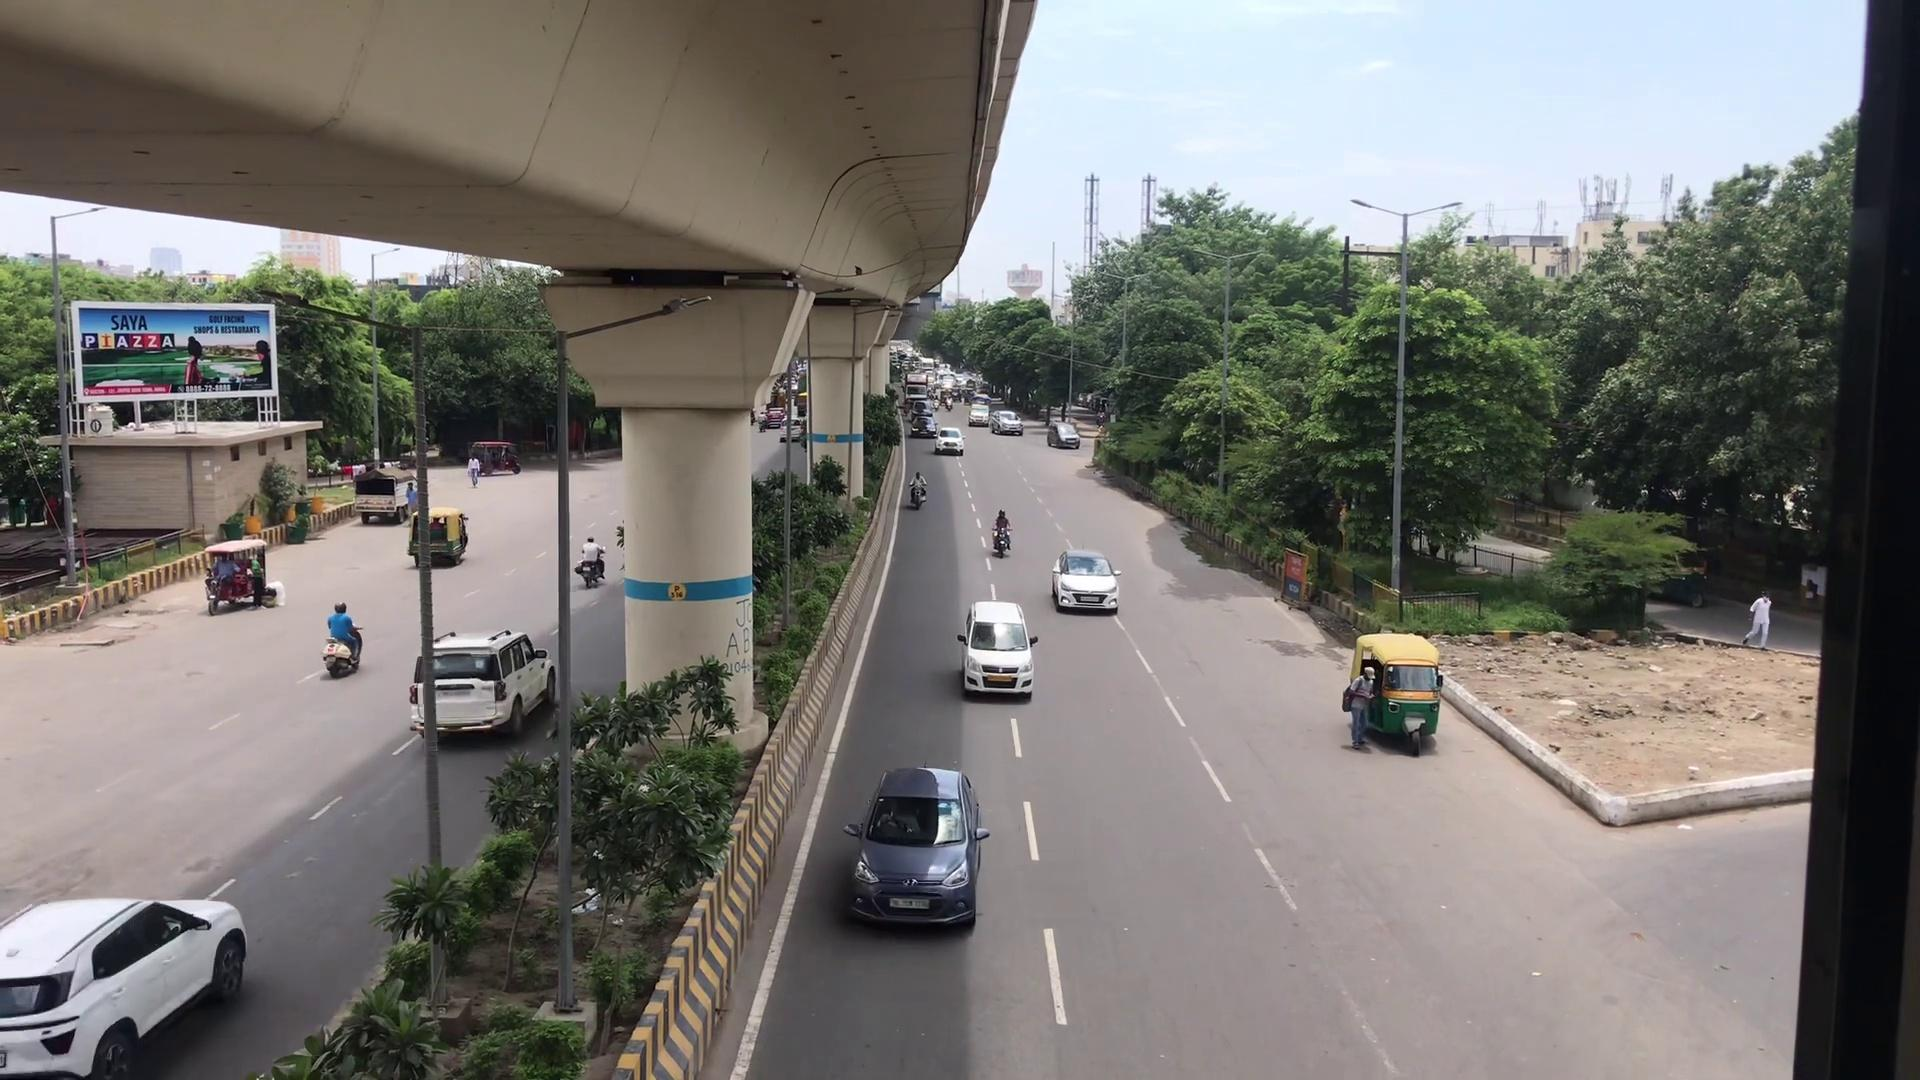Auto: (1345, 626, 1444, 752), (202, 534, 273, 613)
Bike: (322, 589, 363, 678), (989, 508, 1013, 559)
Car: (1, 887, 247, 1077), (844, 764, 982, 931), (413, 624, 553, 741), (957, 597, 1034, 698), (1052, 543, 1120, 613)
